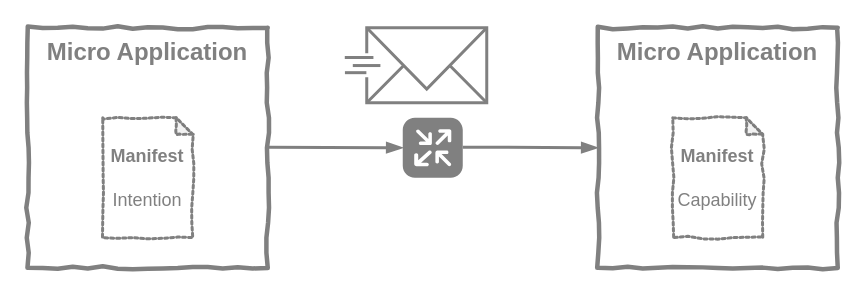
This 866x296 diagram has some shape labels left out. The shapes that lost their labels are listed below. From the top down, each one's centre as x and y in pixels, then its label:
(426,65): Intent
(432,147): Platform
